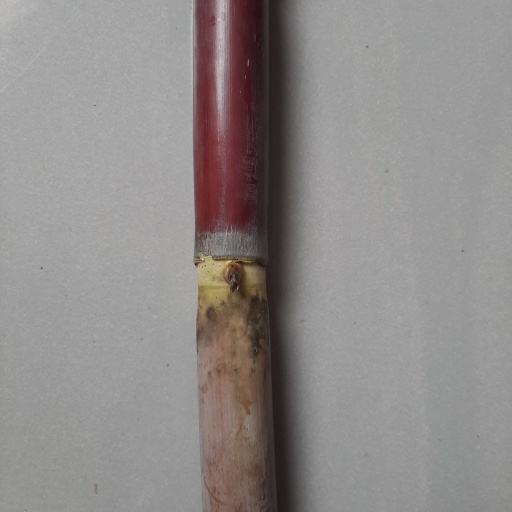Sprouted_Bud: (222, 262, 245, 294)
